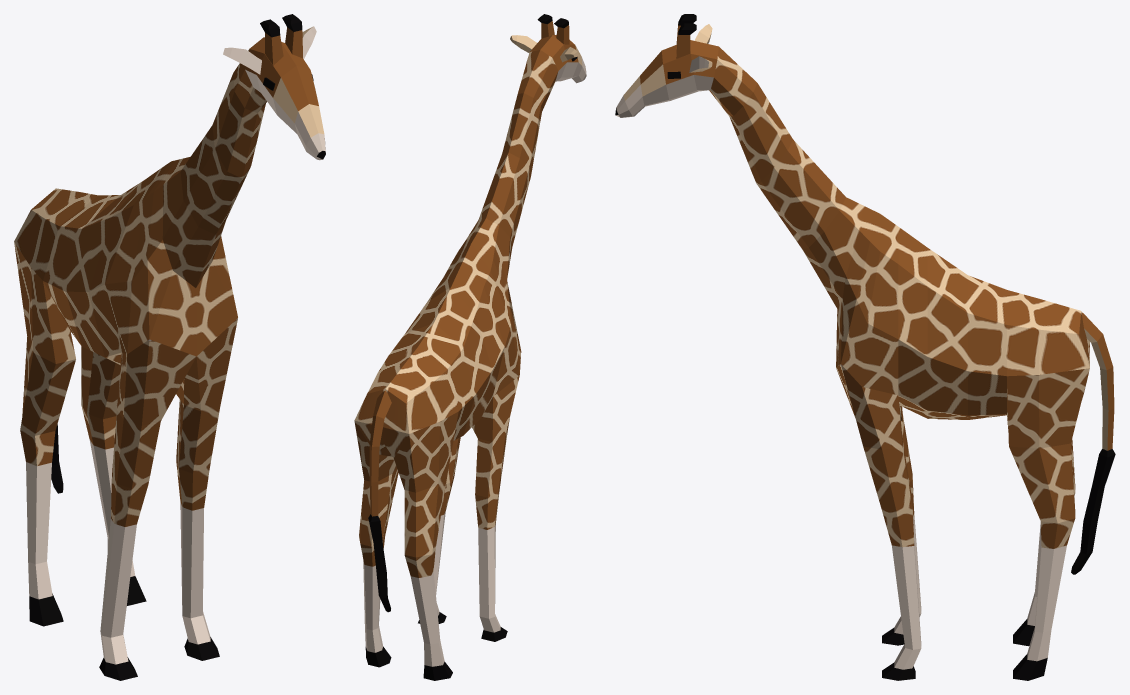
File: giraffe.glb
3 views of the same model, side by side, from view 1: azimuth 30°, elevation 25°; view 2: azimuth 150°, elevation 25°; view 3: azimuth 270°, elevation 25° (orthographic). The views are drawn at different scales.
Parts seen in each view (by area): view 1: Geo_Giraffe; view 2: Geo_Giraffe; view 3: Geo_Giraffe.
Boxes of the visible parts, x1,y1,x2,y2 form: Geo_Giraffe: (14, 14, 325, 680); Geo_Giraffe: (354, 14, 586, 680); Geo_Giraffe: (615, 14, 1115, 680).
Bounding box in the file's own units: 58.75 × 362 × 258.
Materials: 1 (1 with a texture image).
